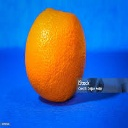orange: (24, 7, 88, 104)
